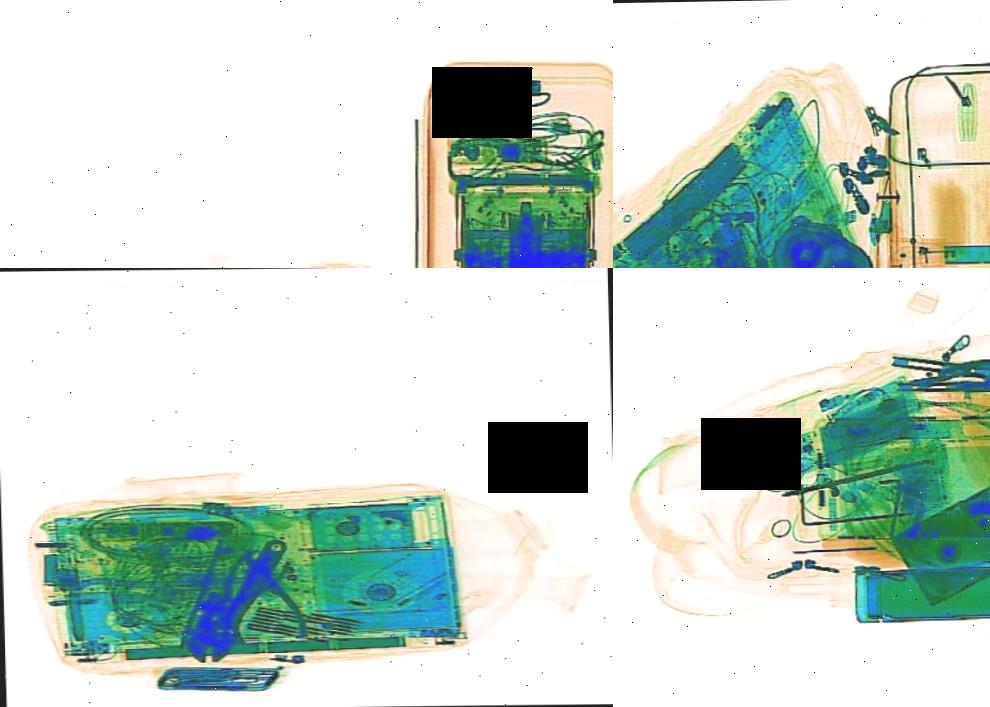Pliers: (217, 546, 306, 640), (904, 337, 990, 405), (886, 348, 990, 402)
Wrench: (169, 528, 302, 668)
